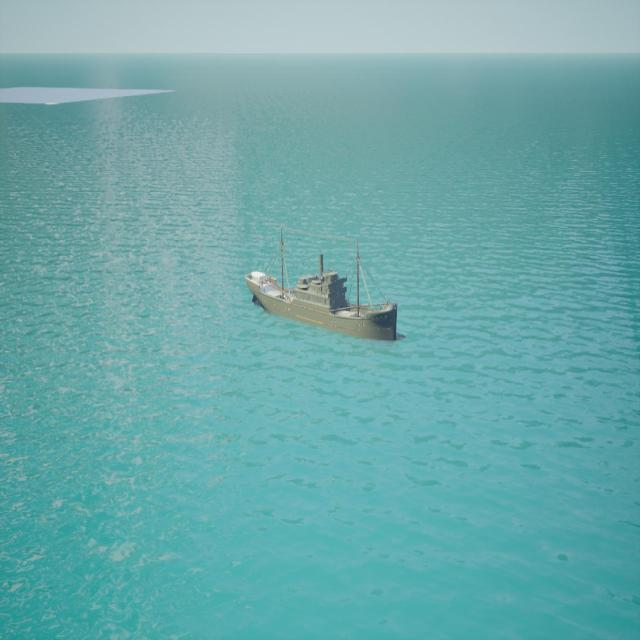fishing ship: (248, 240, 398, 344)
